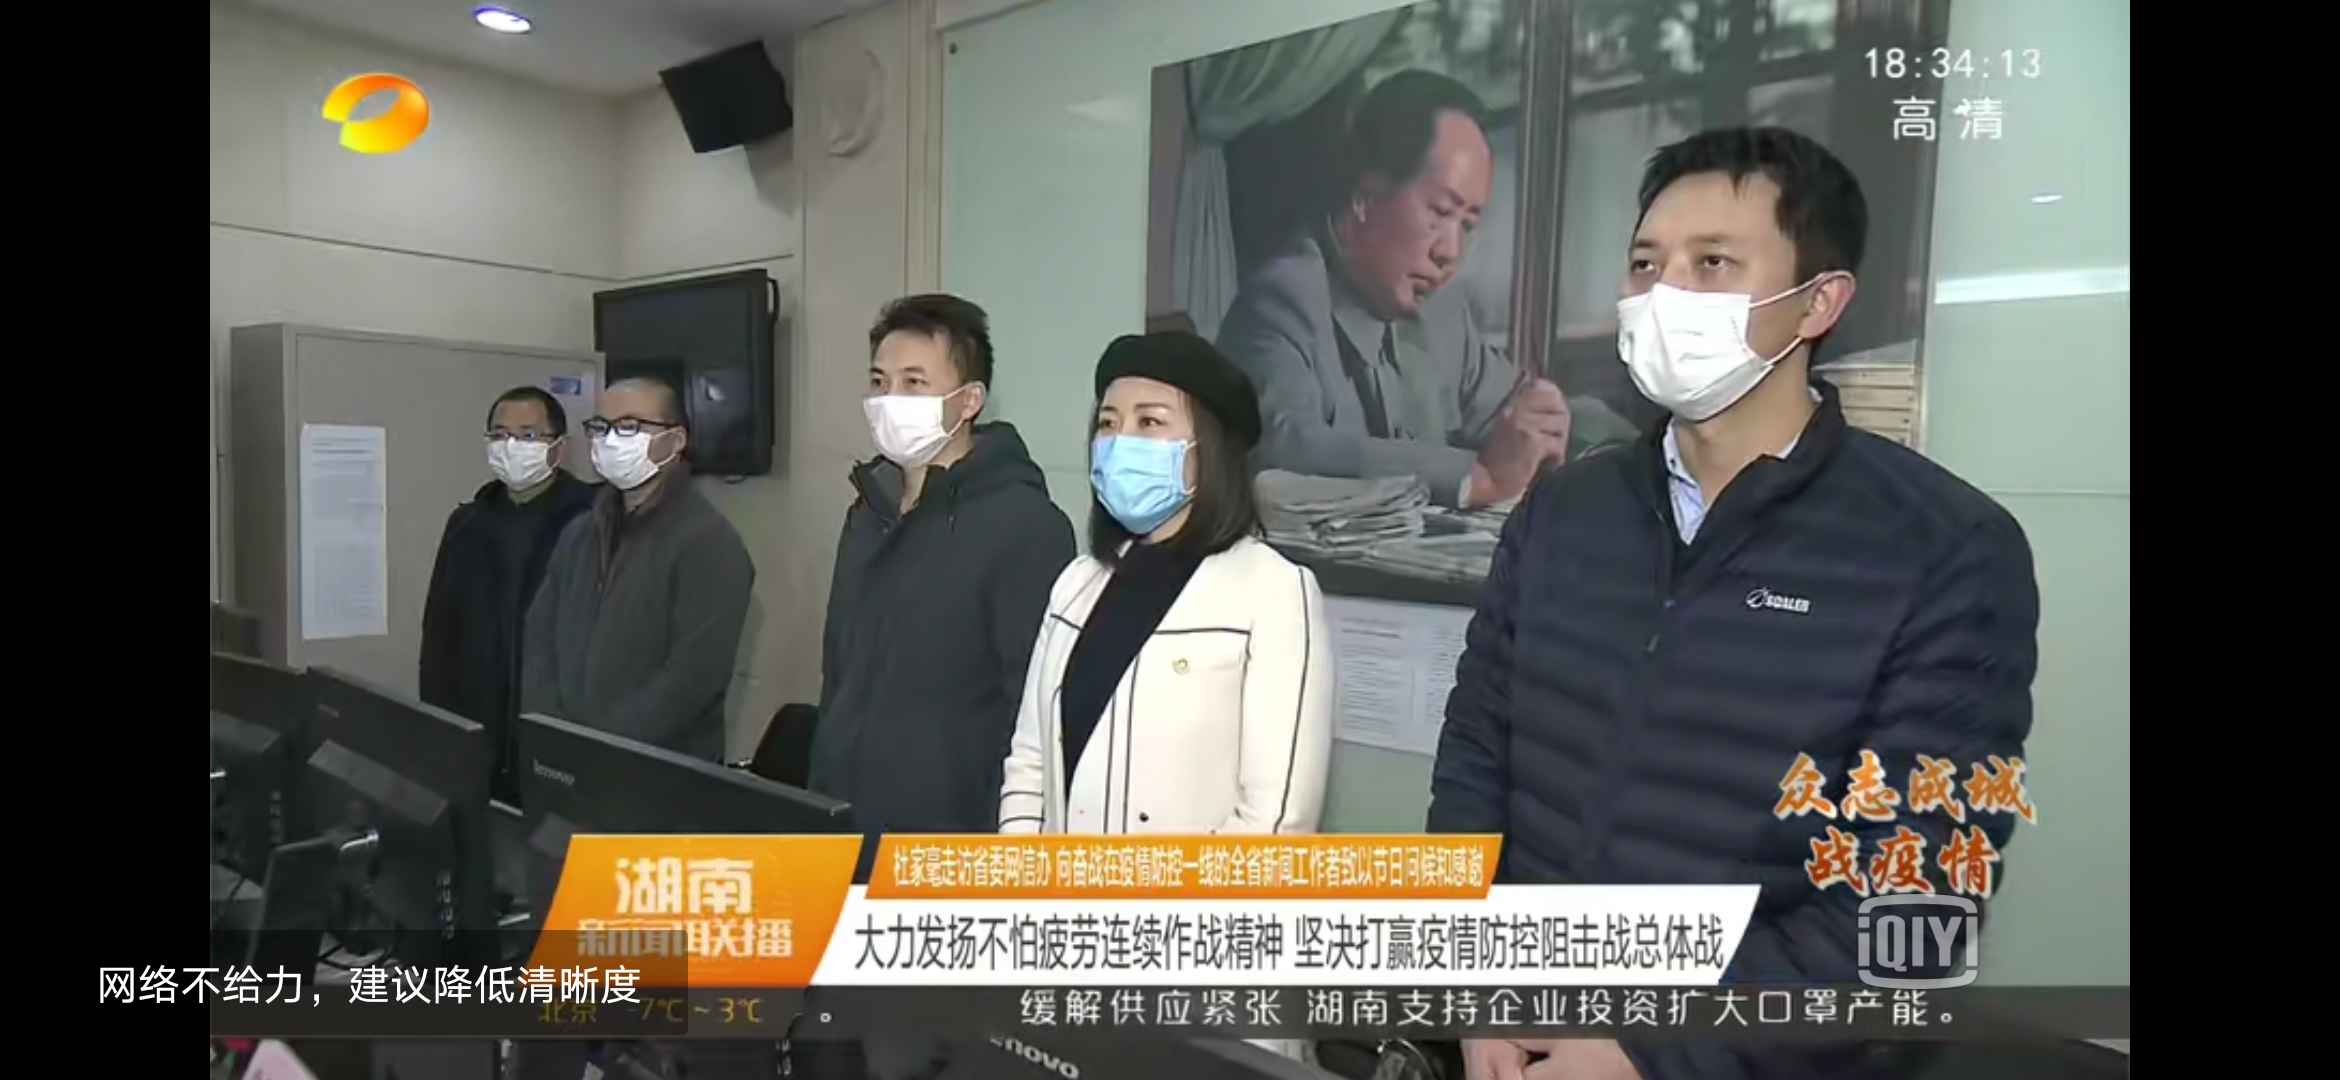correctlyWear: (1607, 234, 1867, 427), (1091, 389, 1216, 540), (863, 339, 989, 465), (588, 406, 683, 494), (481, 418, 569, 497)
noWear: (1349, 148, 1489, 324)
